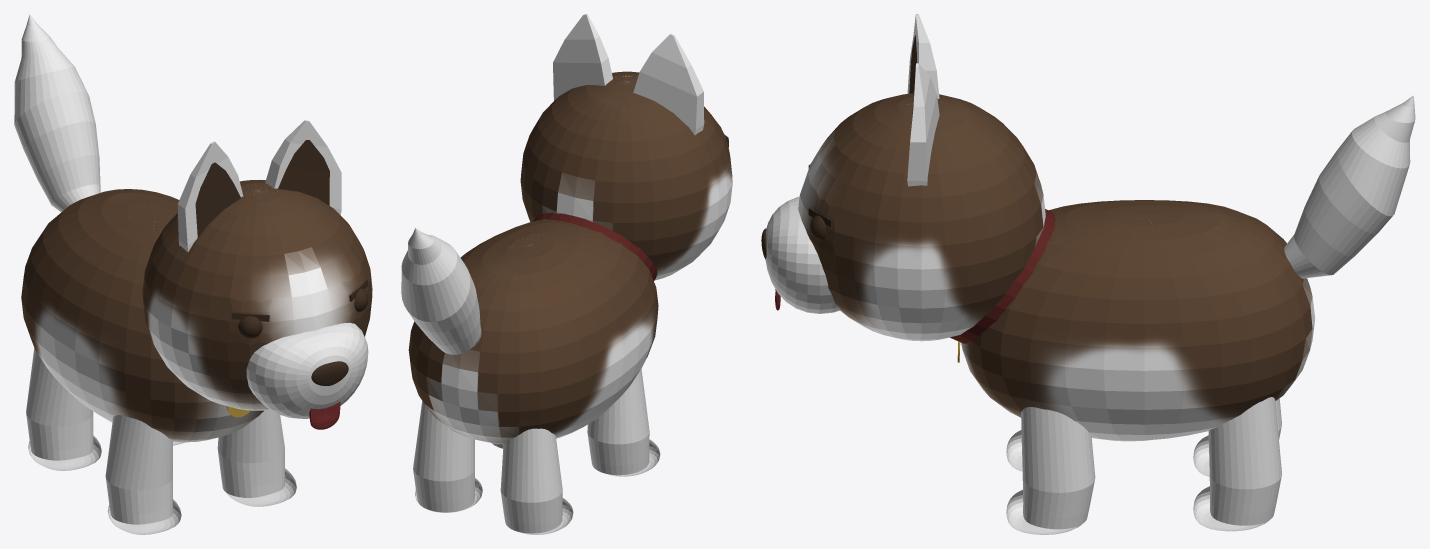
File: pup.gltf
3 views of the same model, side by side, from view 1: azimuth 30°, elevation 25°; view 2: azimuth 150°, elevation 25°; view 3: azimuth 270°, elevation 25° (orthographic). The views are drawn at different scales.
Parts seen in each view (by area): view 1: head, body, tail, snout, front left leg, back left leg, front right leg, left ear, right ear, inner ear, inner ear.001, nose (+2 smaller); view 2: body, head, tail, back left leg, back right leg, front left leg, left ear, right ear, collar; view 3: body, head, tail, front right leg, back right leg, snout, right ear, collar, left ear.
Boxes of the visible parts, x1,y1,x2,y2 form: head: [142, 179, 372, 410]; body: [21, 189, 263, 442]; tail: [14, 14, 100, 212]; snout: [246, 322, 368, 418]; front left leg: [105, 415, 181, 534]; back left leg: [26, 348, 101, 470]; front right leg: [217, 410, 296, 506]; left ear: [177, 141, 243, 251]; right ear: [265, 120, 341, 214]; inner ear: [278, 140, 329, 205]; inner ear.001: [195, 162, 240, 237]; nose: [311, 361, 348, 385]; body: [408, 219, 658, 444]; head: [520, 71, 732, 280]; tail: [401, 228, 481, 354]; back left leg: [500, 428, 573, 534]; back right leg: [413, 401, 482, 512]; front left leg: [587, 368, 660, 476]; left ear: [633, 33, 704, 135]; right ear: [553, 14, 612, 100]; collar: [533, 212, 657, 280]; body: [961, 200, 1315, 441]; head: [798, 93, 1045, 341]; tail: [1284, 95, 1415, 278]; front right leg: [1006, 407, 1095, 534]; back right leg: [1193, 397, 1281, 531]; snout: [765, 196, 839, 313]; right ear: [907, 63, 939, 186]; collar: [950, 209, 1055, 343]; left ear: [907, 14, 939, 98].
Bounding box in the file's own units: 2 × 4.05 × 5.26.
Materials: 5 (2 with a texture image).
